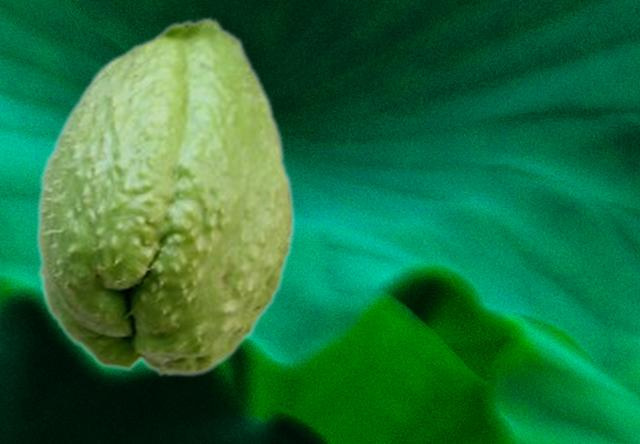sayote: (35, 15, 296, 377)
